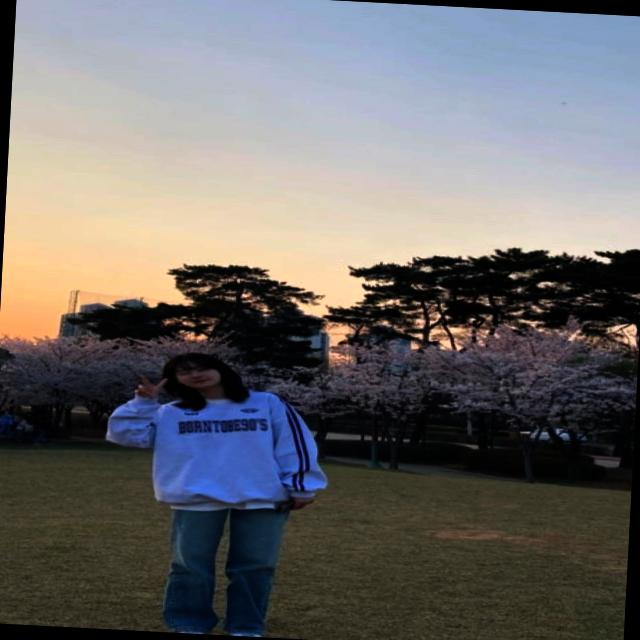denimpants: (166, 502, 292, 638)
mtm: (107, 382, 337, 516)
